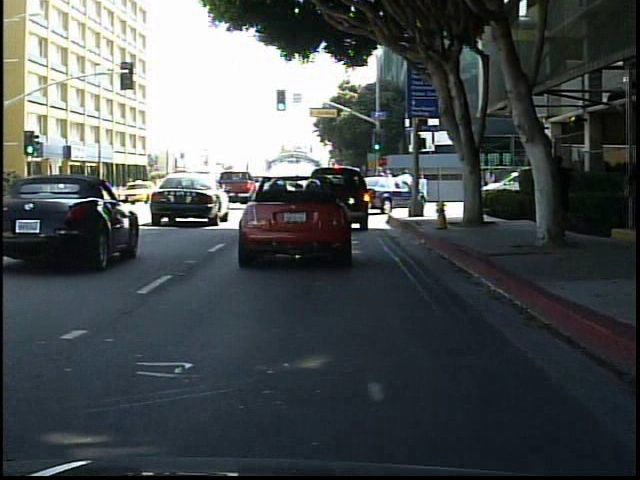person: (541, 148, 569, 239), (120, 176, 139, 203)
